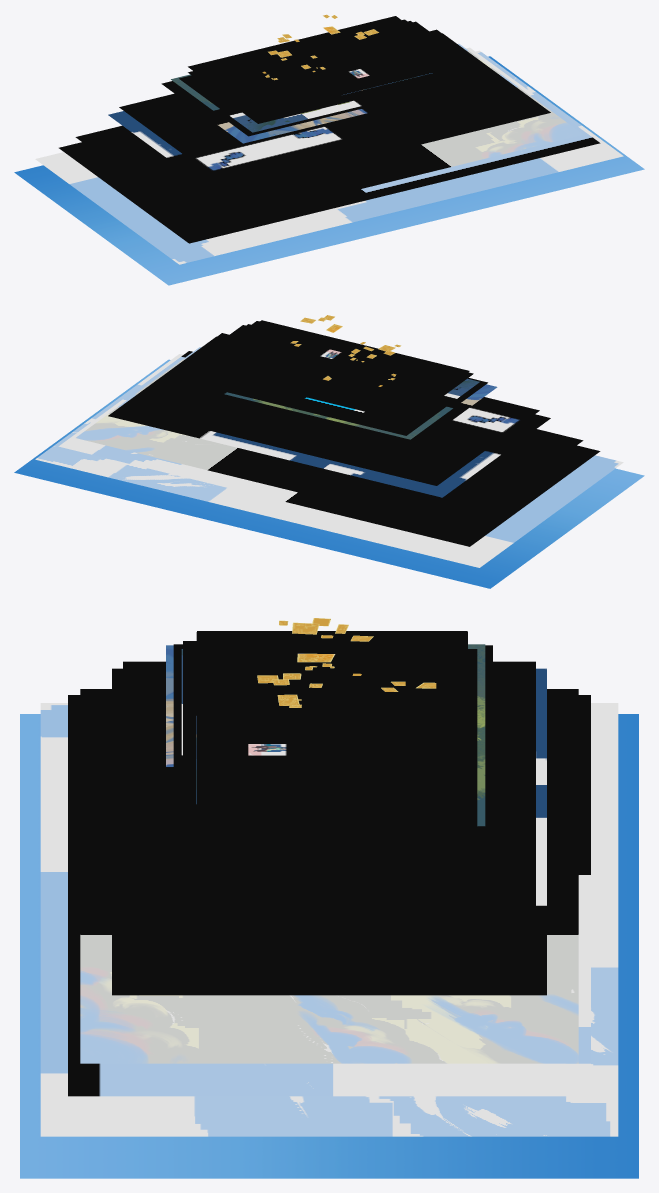
File: title.fbx
The picture shows the model from 3 angles, top to bottom: view 1: azimuth 30°, elevation 25°; view 2: azimuth 150°, elevation 25°; view 3: azimuth 270°, elevation 25°; orthographic projection. The views are drawn at different scales.
Parts seen in each view (by area): view 1: 前云, 后小草, 人, 天空, 后云, 中云, 后树叶, 岩石, 前小草, 蓝屏, 前树叶; view 2: 前云, 后小草, 人, 天空, 后云, 中云, 后树叶, 前小草, 岩石, 蓝屏, 前树叶; view 3: 前云, 人, 后小草, 后云, 天空, 中云, 后树叶, 岩石, 前小草, 蓝屏, 前树叶.
Part boxes in pixels (x1,y1,x2,y2): 前云: (75,43,583,228); 后小草: (119,29,539,182); 人: (188,16,462,116); 天空: (14,56,644,285); 后云: (35,50,623,264); 中云: (59,47,600,243); 后树叶: (108,33,550,194); 岩石: (161,21,497,143); 前小草: (179,71,479,132); 蓝屏: (188,19,474,123); 前树叶: (171,21,488,136); 前云: (76,347,583,531); 后小草: (119,333,539,485); 人: (194,320,469,420); 天空: (14,359,644,588); 后云: (35,354,623,567); 中云: (58,351,600,546); 后树叶: (108,336,550,497); 前小草: (179,373,479,435); 岩石: (161,325,497,446); 蓝屏: (186,321,473,425); 前树叶: (170,324,487,439); 前云: (80,689,578,1063); 人: (197,631,467,834); 后小草: (123,661,535,971); 后云: (40,703,618,1136); 天空: (20,714,638,1178); 中云: (68,695,590,1096); 后树叶: (112,668,546,995); 岩石: (166,645,492,893); 前小草: (181,649,477,871); 蓝屏: (183,641,464,852); 前树叶: (173,644,485,878).
Bounding box in the file's own units: 12133 × 3493 × 6825.
